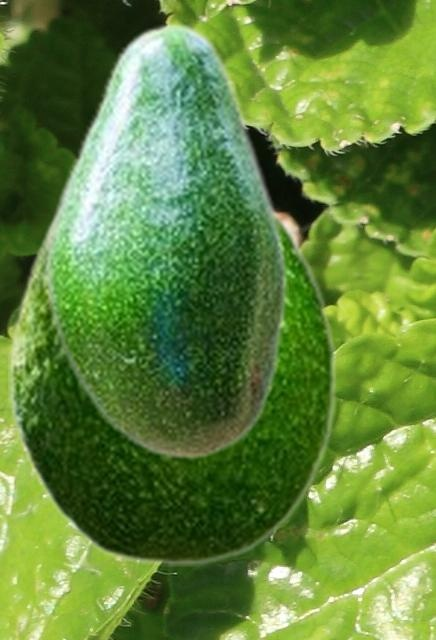avocado: (8, 204, 337, 565), (42, 21, 287, 460)
